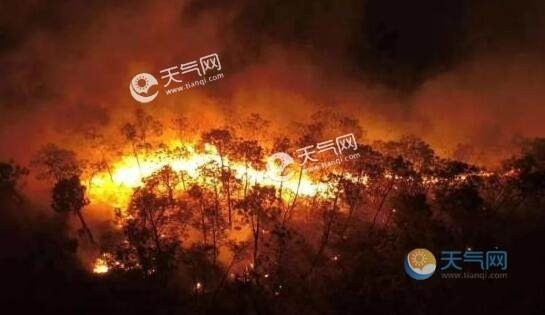fire: (86, 141, 349, 206), (90, 249, 127, 277)
